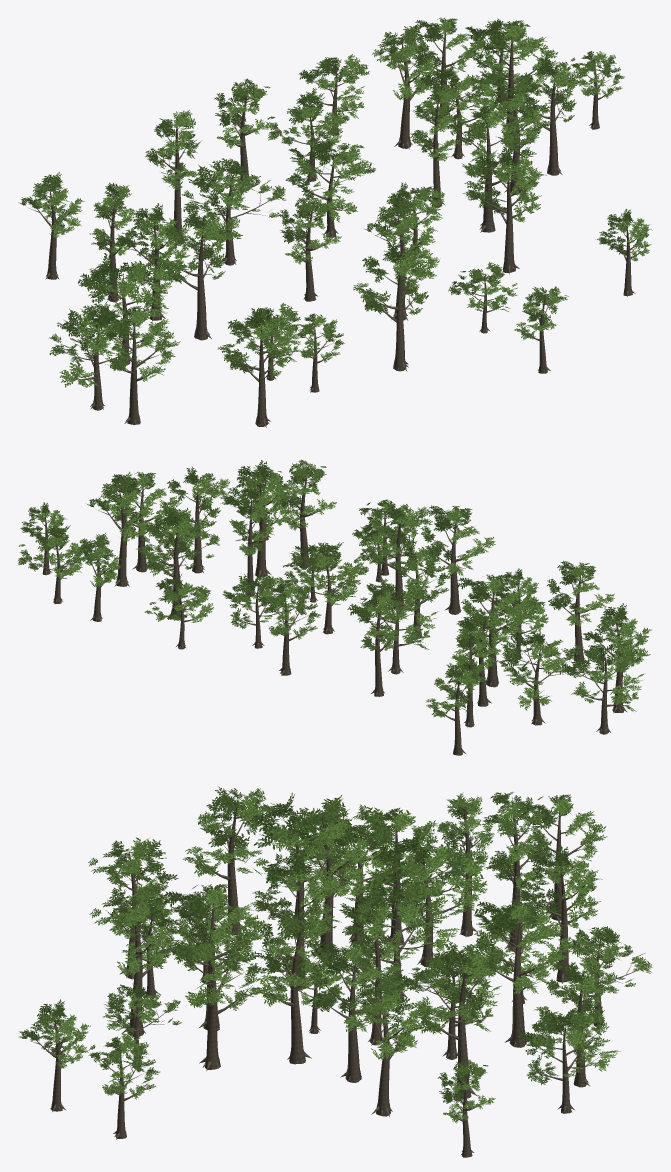
File: Canopy_10_16.glb
3 renders of one model, top to bottom at view 1: azimuth 30°, elevation 25°; view 2: azimuth 150°, elevation 25°; view 3: azimuth 270°, elevation 25°, orthographic. The views are drawn at different scales.
Visible parts, largest first — view 1: Canopy_10_16; view 2: Canopy_10_16; view 3: Canopy_10_16.
Part boxes in pixels (x1=…): Canopy_10_16: x1=18, y1=17, x2=652, y2=427; Canopy_10_16: x1=18, y1=459, x2=651, y2=755; Canopy_10_16: x1=19, y1=786, x2=652, y2=1157.
Bounding box in the file's own units: 107 × 35.71 × 74.9.
Materials: 2 (2 with a texture image).
